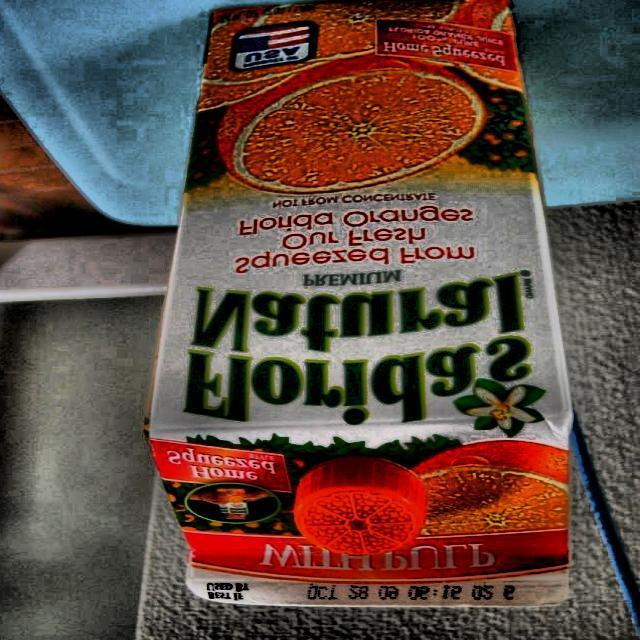cardboard: (142, 0, 576, 609)
